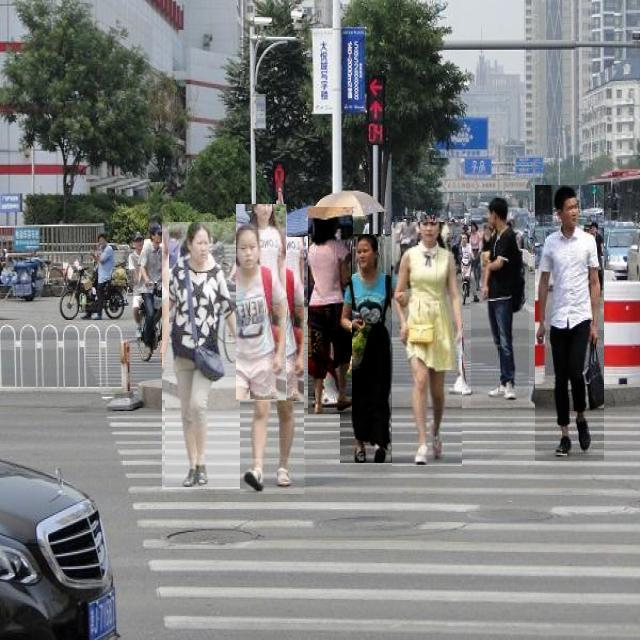without scooter: (162, 223, 243, 490), (535, 185, 604, 461), (392, 222, 462, 466), (241, 238, 306, 494), (341, 234, 402, 463), (472, 197, 530, 406), (237, 205, 288, 402), (309, 208, 354, 414)
